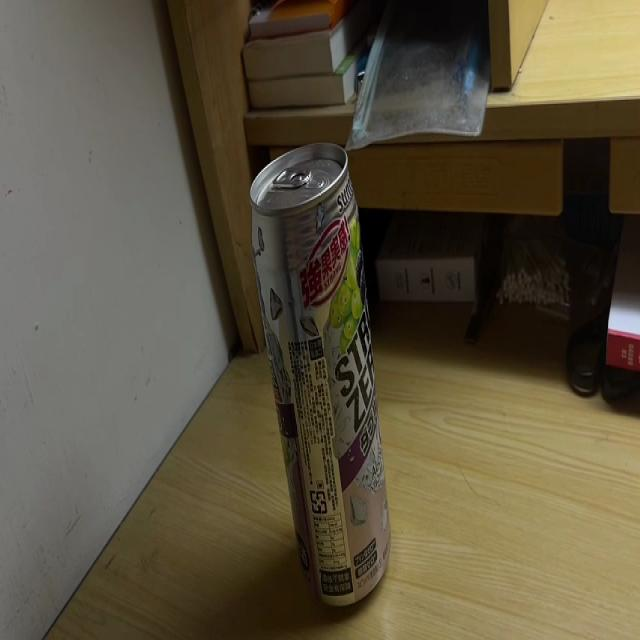Liquor: (250, 139, 390, 610)
